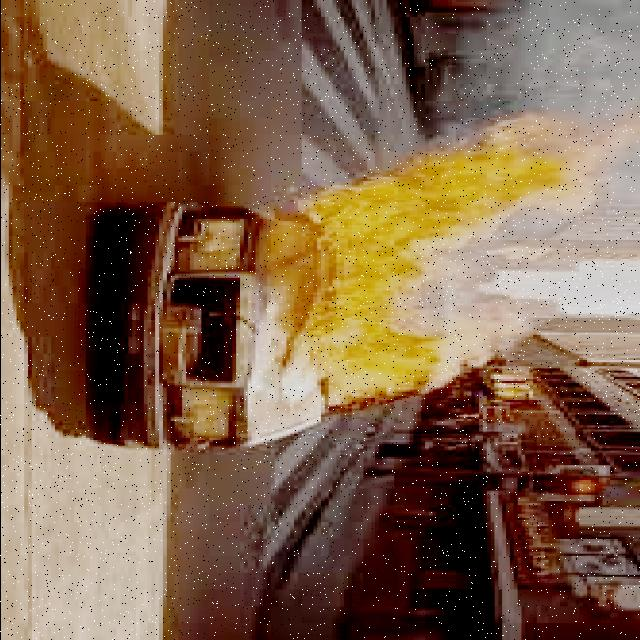api: (310, 115, 580, 401)
